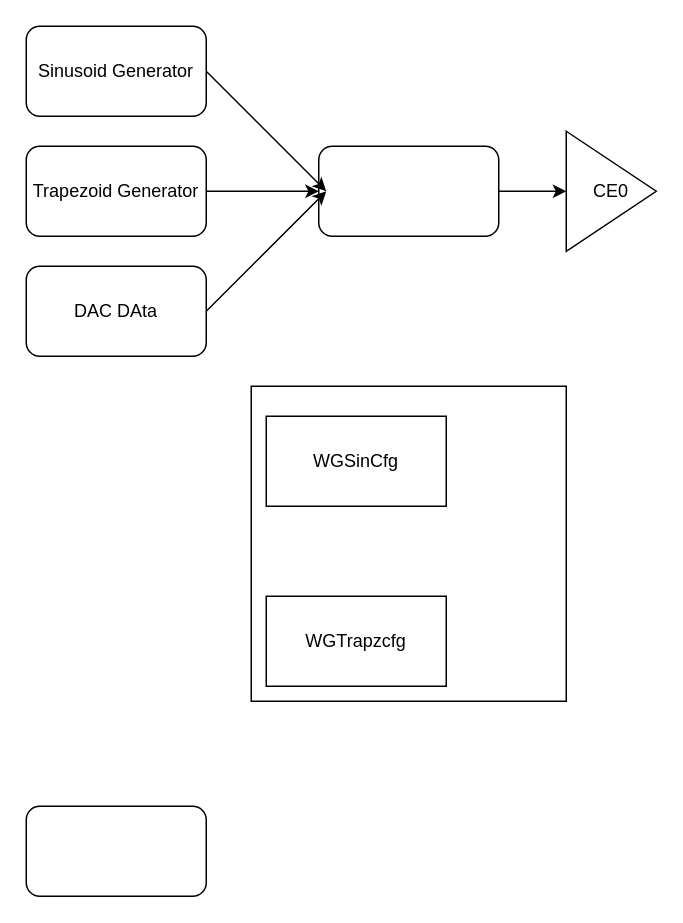
This 683x923 diagram has some shape labels left out. The shapes that lost their labels are listed below. From the top down, each one's box as (x1, y1, x2, y2) in pixels, then its label:
(317, 145, 499, 236): High/Low Speed DAC
(250, 385, 566, 701): WGCfg
(25, 805, 206, 896): ADC Block
